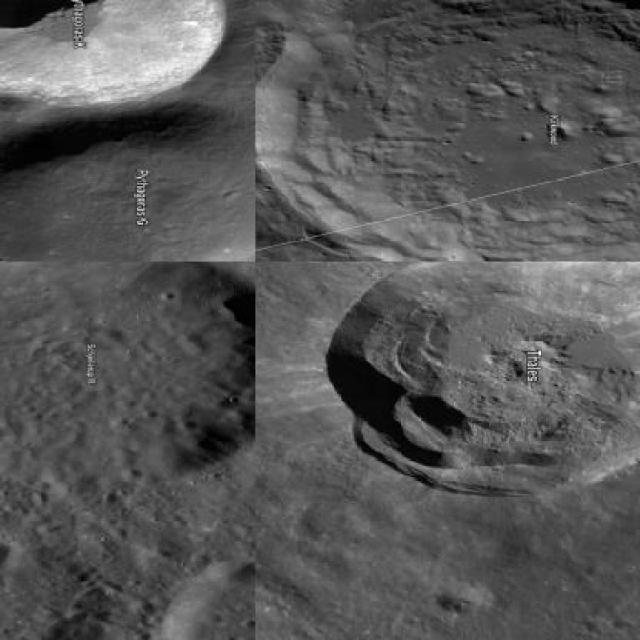crater: (256, 0, 638, 260), (324, 262, 638, 498), (0, 262, 254, 502), (0, 105, 254, 260), (0, 0, 229, 106), (151, 560, 254, 638)
